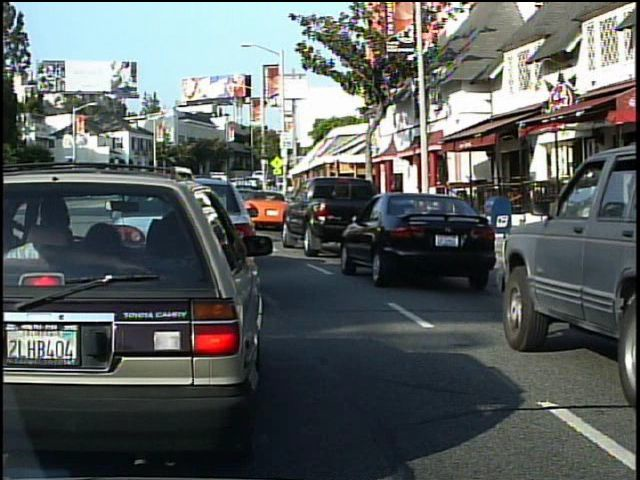person: (589, 147, 624, 247)
